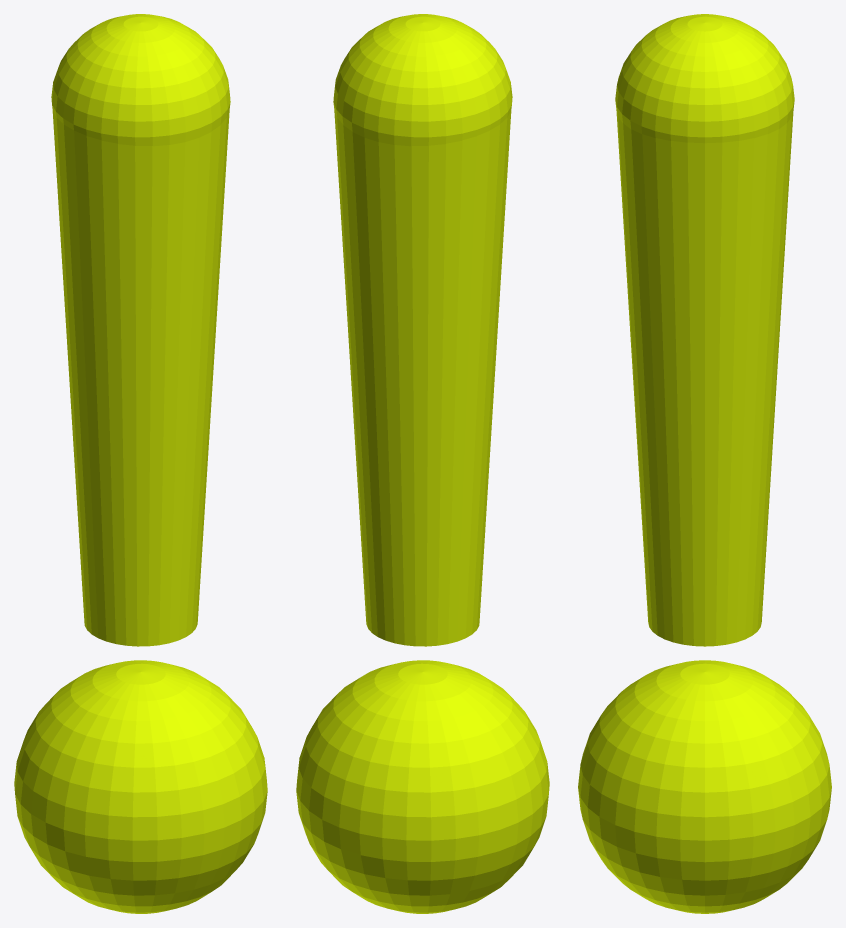
File: exmark.fbx
3 views of the same model, side by side, from view 1: azimuth 30°, elevation 25°; view 2: azimuth 150°, elevation 25°; view 3: azimuth 270°, elevation 25° (orthographic).
Parts seen in each view (by area): view 1: Cylinder, Sphere, Sphere.001; view 2: Cylinder, Sphere, Sphere.001; view 3: Cylinder, Sphere, Sphere.001.
Part boxes in pixels (<box>): Cylinder: <box>52,110,229,646</box>; Sphere: <box>14,660,267,913</box>; Sphere.001: <box>51,14,230,146</box>; Cylinder: <box>334,110,511,646</box>; Sphere: <box>296,660,549,913</box>; Sphere.001: <box>333,14,512,146</box>; Cylinder: <box>616,110,793,646</box>; Sphere: <box>578,660,831,913</box>; Sphere.001: <box>615,14,794,143</box>.
Bounding box in the file's own units: 200 × 764 × 200.
